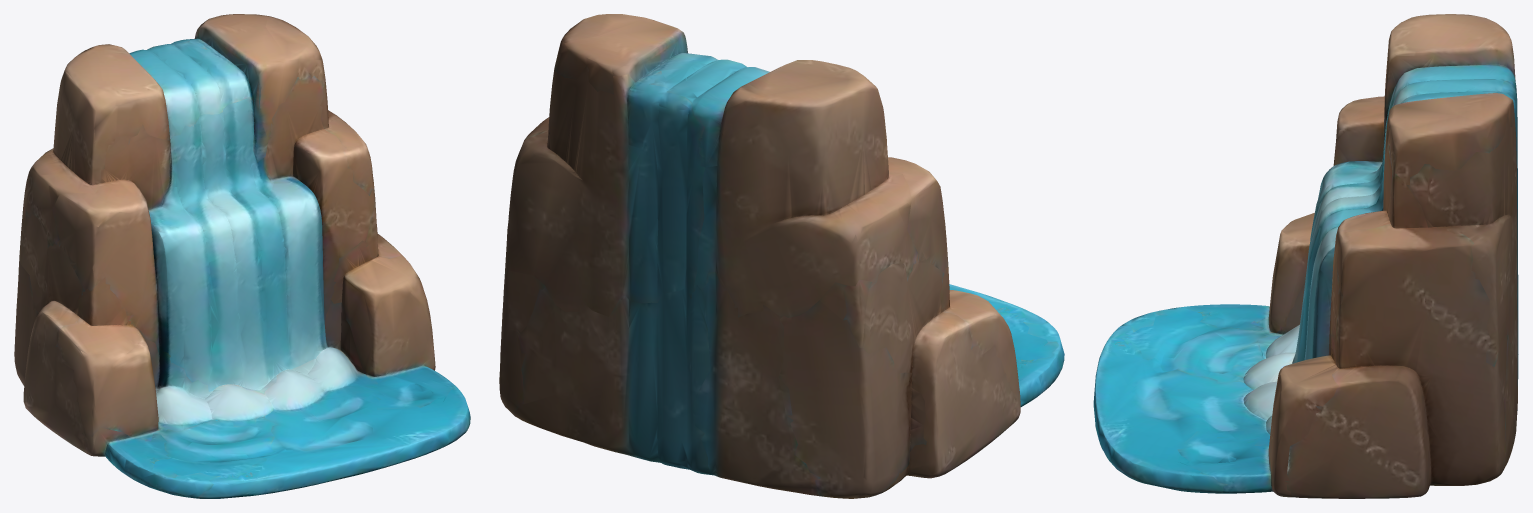
The model's file is waterfall_pbr.glb.
The picture shows the model from 3 angles, left to right: view 1: azimuth 30°, elevation 25°; view 2: azimuth 150°, elevation 25°; view 3: azimuth 270°, elevation 25°; orthographic projection. The views are drawn at different scales.
Parts seen in each view (by area): view 1: model.018; view 2: model.018; view 3: model.018.
Boxes of the visible parts, x1,y1,x2,y2 form: model.018: (14,14,470,498); model.018: (499,14,1064,498); model.018: (1093,14,1518,498).
Bounding box in the file's own units: 1.53 × 1.29 × 1.46.
1 material, 1 textured.
